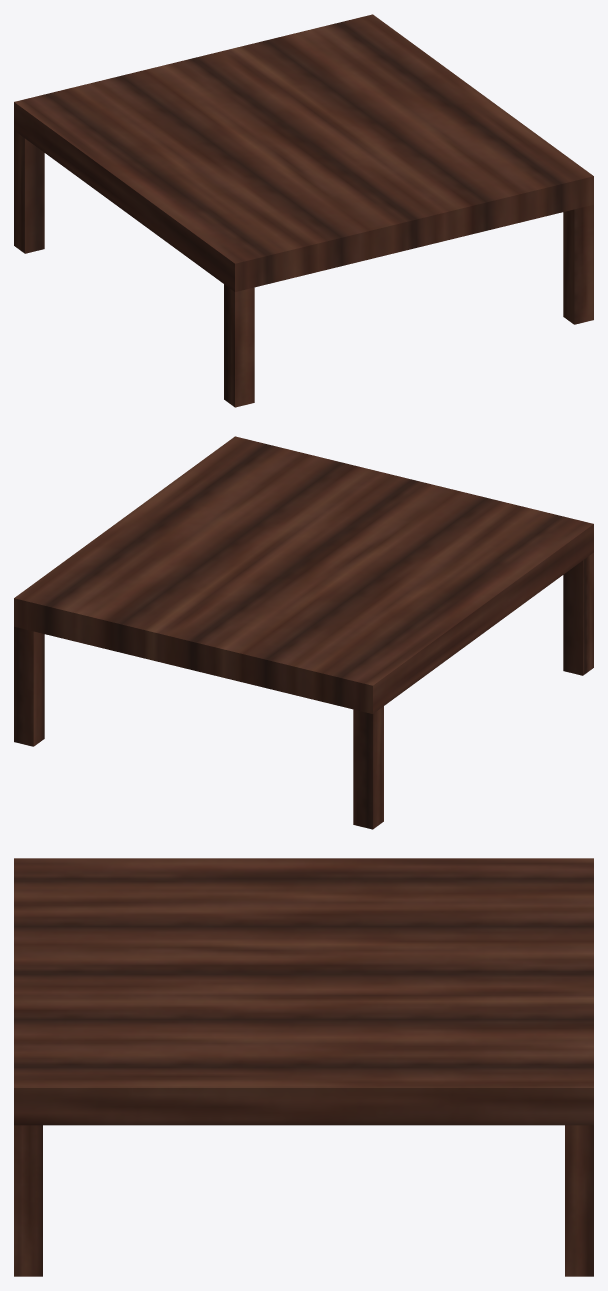
The model's file is co_TableWoodSquareBig_02.fbx.
The picture shows the model from 3 angles, top to bottom: view 1: azimuth 30°, elevation 25°; view 2: azimuth 150°, elevation 25°; view 3: azimuth 270°, elevation 25°; orthographic projection. The views are drawn at different scales.
Parts seen in each view (by area): view 1: TableWoodSquareBig_02; view 2: TableWoodSquareBig_02; view 3: TableWoodSquareBig_02.
Boxes of the visible parts, <box> form: TableWoodSquareBig_02: <box>14,14,593,407</box>; TableWoodSquareBig_02: <box>14,436,593,829</box>; TableWoodSquareBig_02: <box>14,858,593,1276</box>.
Size of the model in its own units: 540 by 207 by 576.
